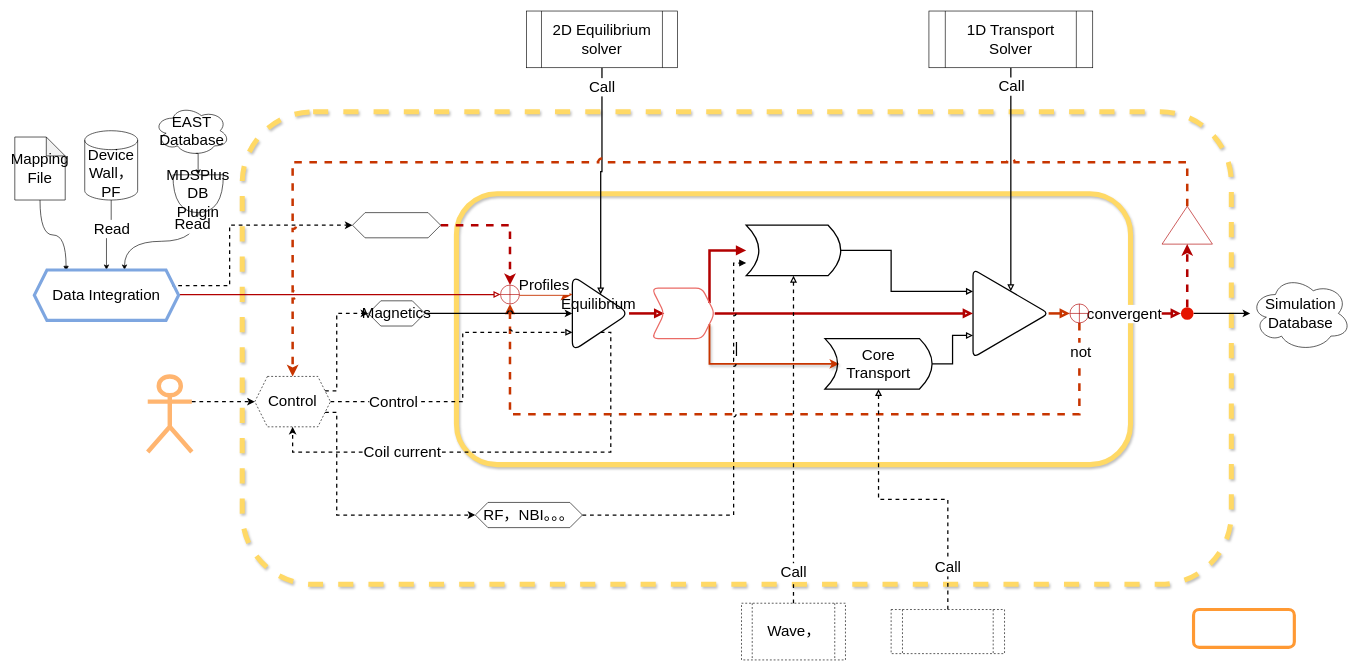
This 1362x671 diagram has some shape labels left out. The shapes that lost their labels are listed below. From the top down, each one's centre as x and y in pixels, then its label:
point 396,225: Diag.
point 1186,225: t=t+1
point 793,250: Core Sources
point 683,313: Flux Surface
point 1010,313: Transport Solver
point 169,414: Pulse Schedule
point 948,631: Gyrokinetic MHD
point 1244,628: Fy Tok
